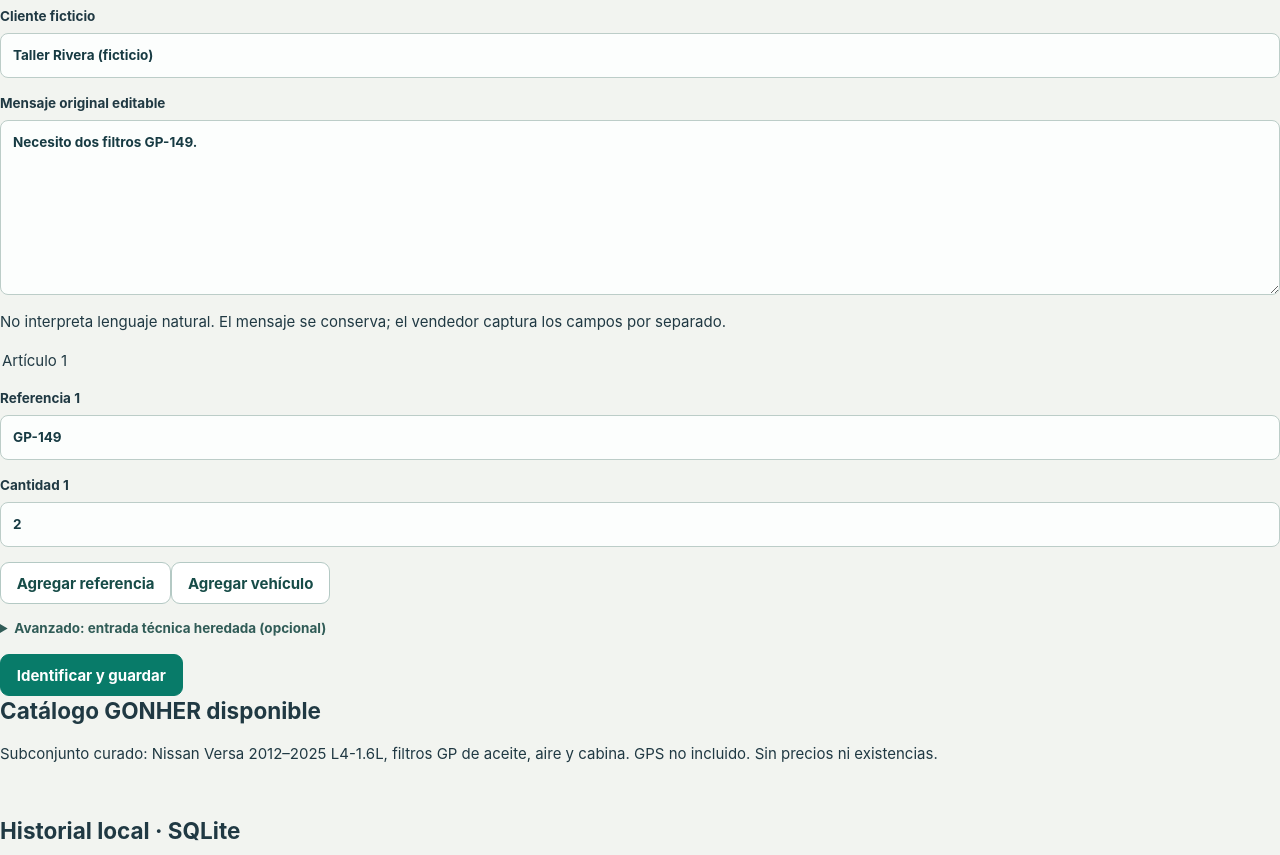
Test: HTTP 409 cannot show a false saved result
(page scrolled)
What coordinates should you click on to do the following:
click the button "Identificar y guardar"
I would click on:
 (91, 675)
Its box is [0, 654, 183, 696].
(page scrolled)
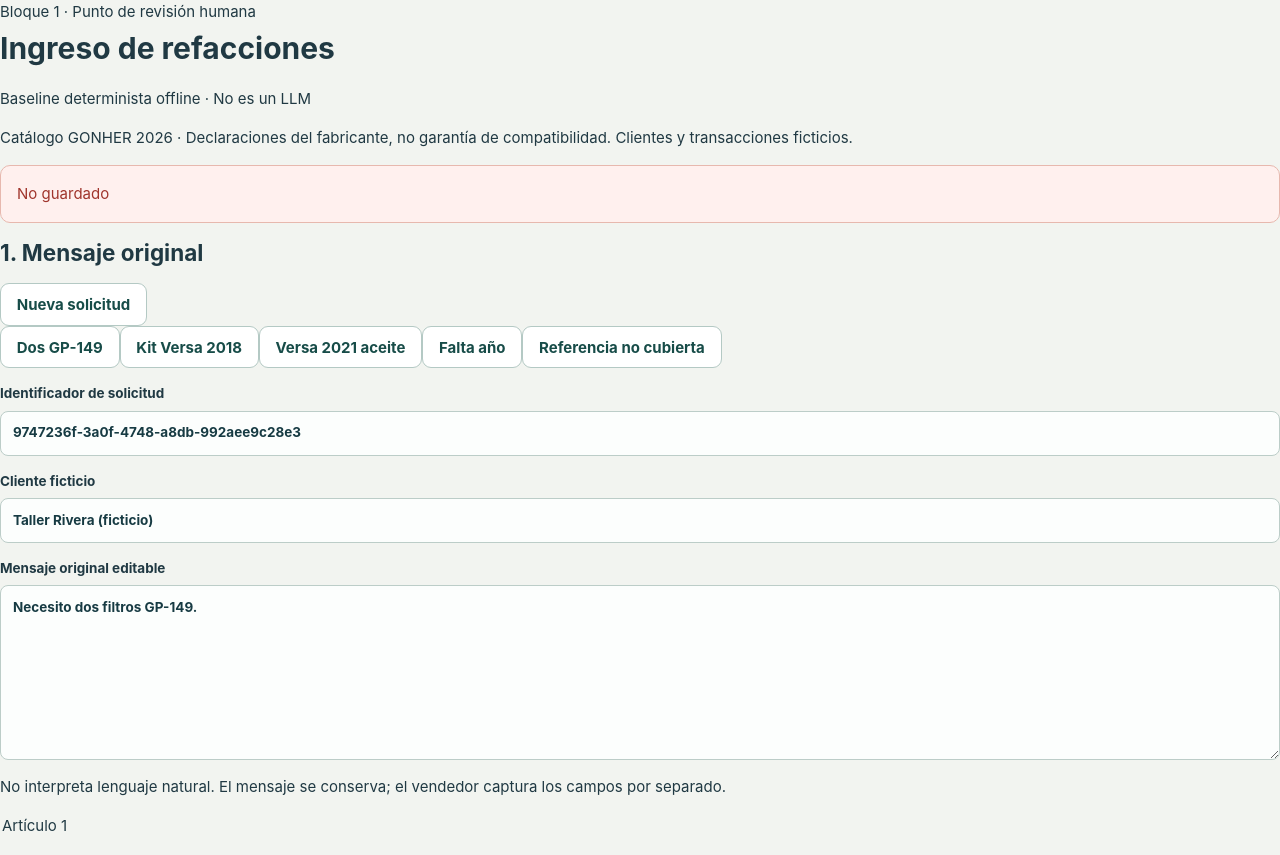
Check: the message reads "No guardado", box [17, 184, 109, 203]
